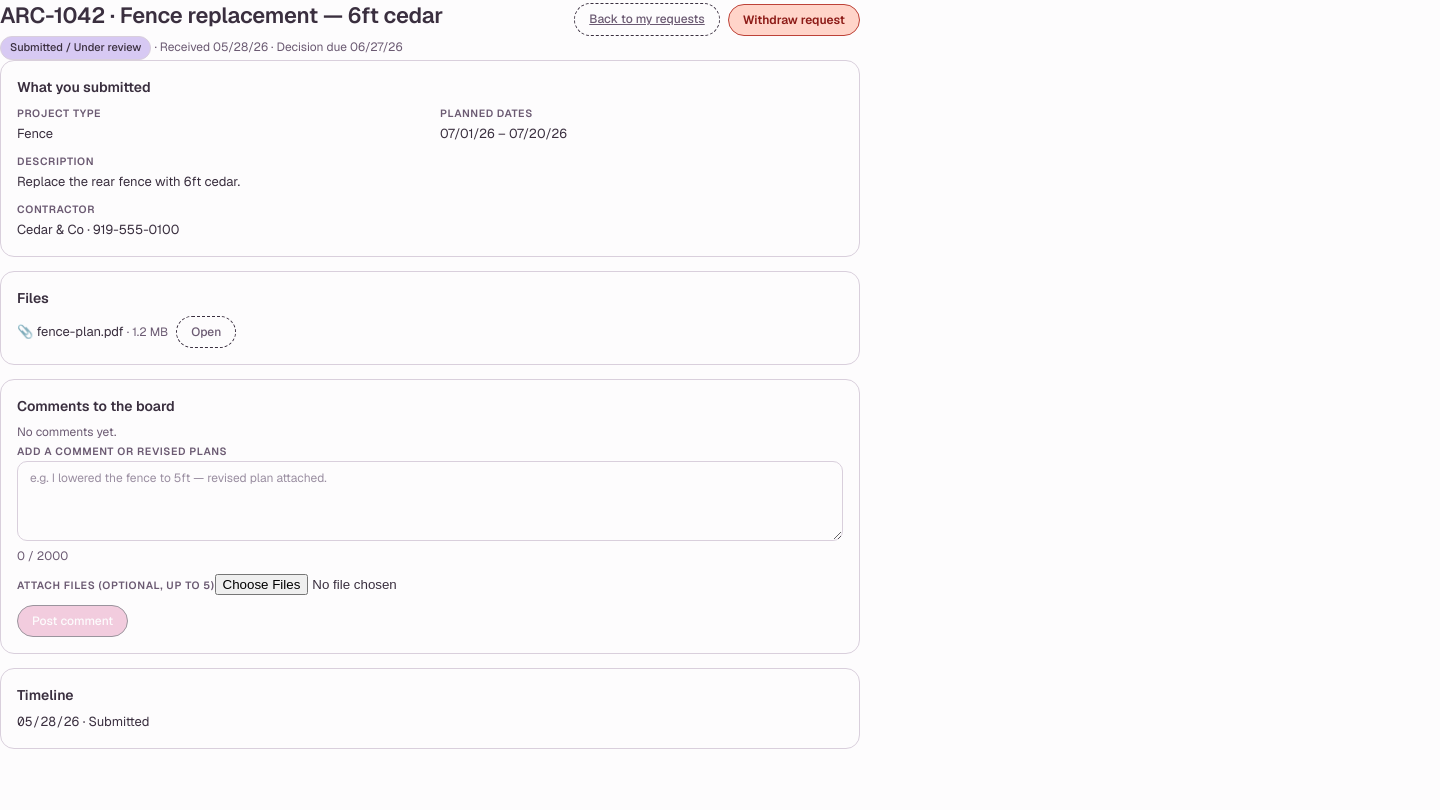
Test case: RequestDetailComponent (029 US2–US4, US6) › withdraws after confirmation
Click the button "Withdraw request": (794, 20) [728,4,860,36]
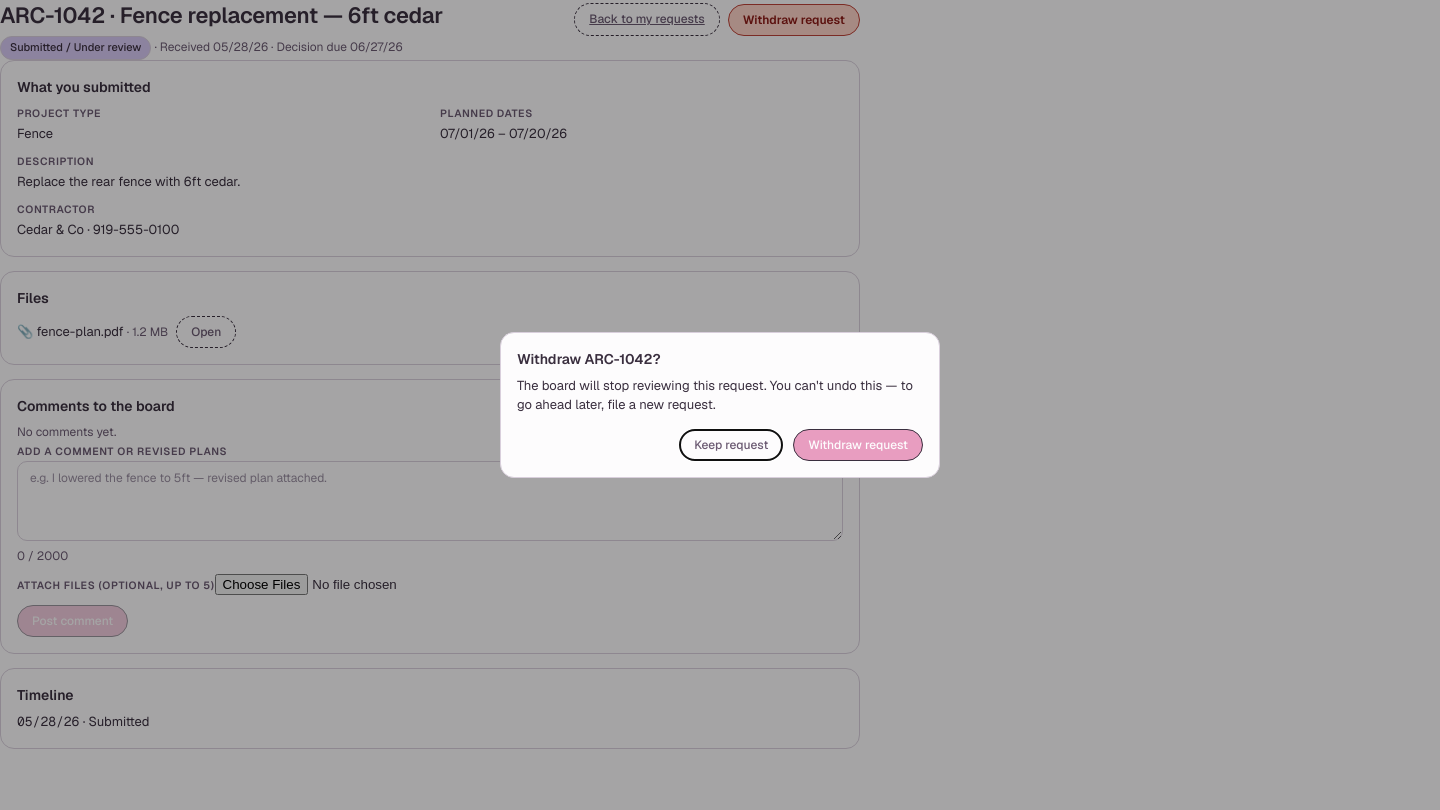
expect the dialog "Withdraw ARC-1042?" is shown: met, box [500,332,940,478]
Click the button "Withdraw request": (858, 445) [793,429,923,461]
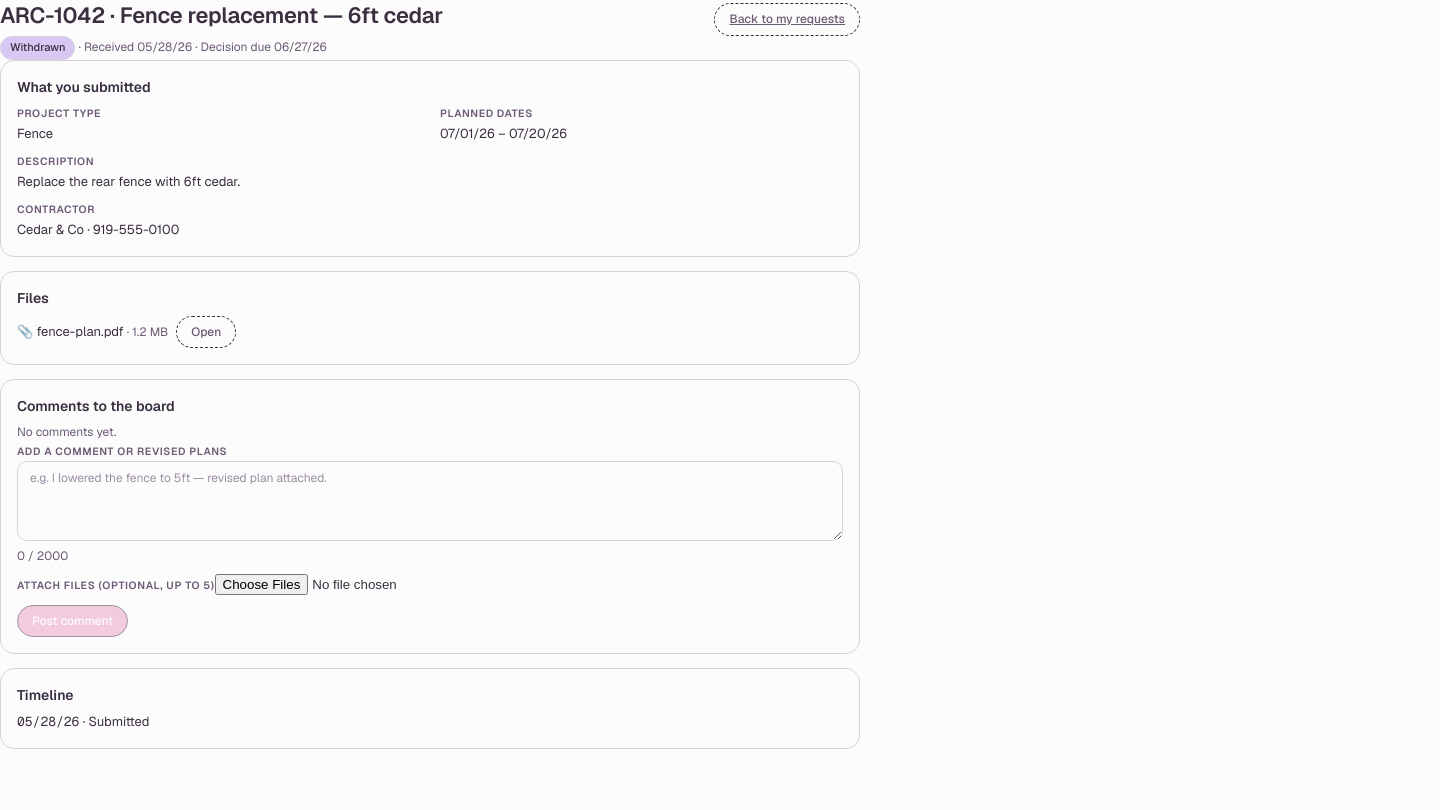
expect the dialog is gone: met
expect the button "Withdraw request" is gone: met
